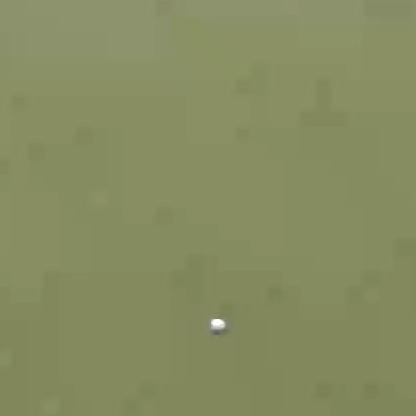golfball: (207, 315, 224, 332)
